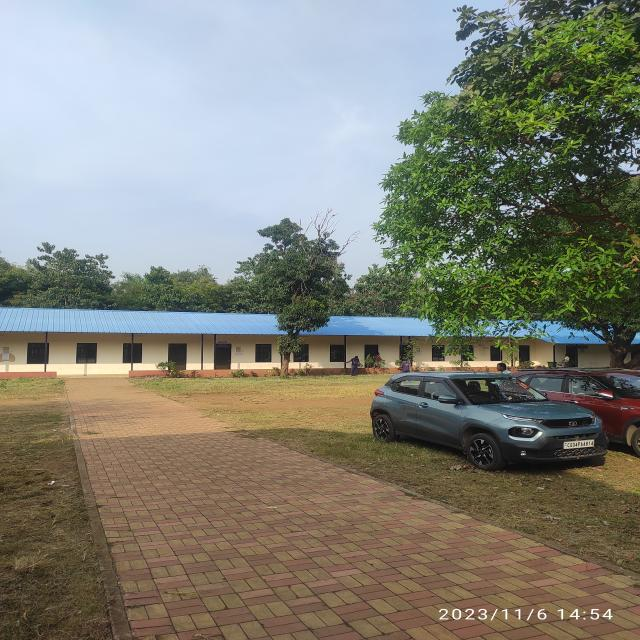Mango Tree: (429, 48, 640, 352), (247, 193, 351, 395)
